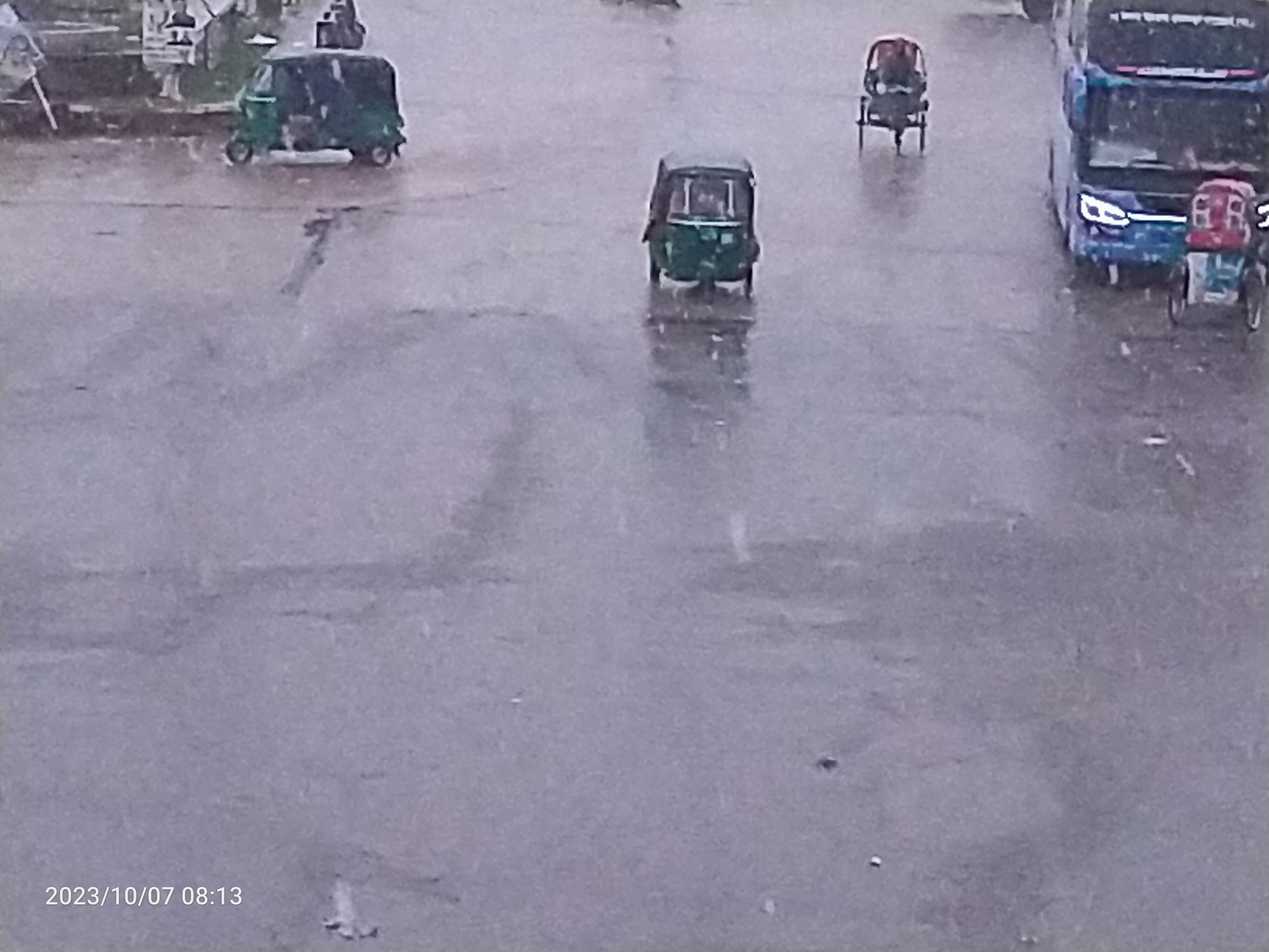Bus: (1049, 0, 1269, 291)
Car: (826, 18, 962, 181), (1160, 166, 1269, 341)
